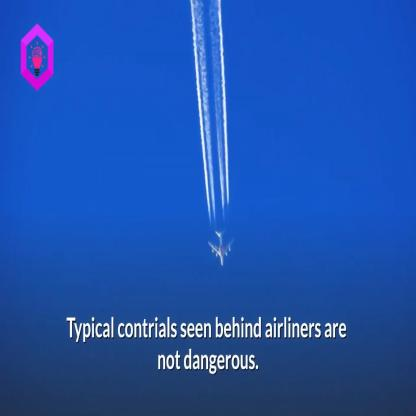plane: (206, 225, 237, 267)
